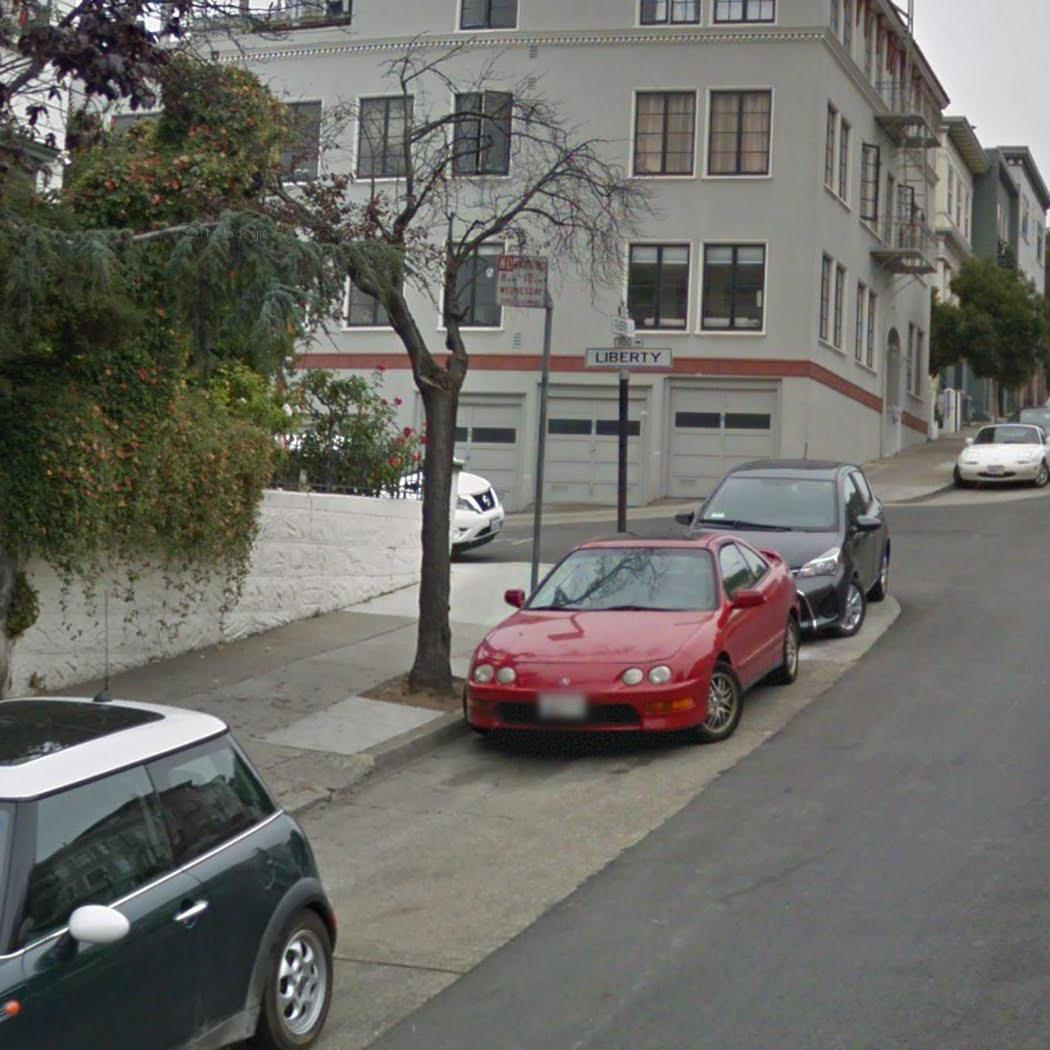No Parking: (493, 251, 550, 311)
